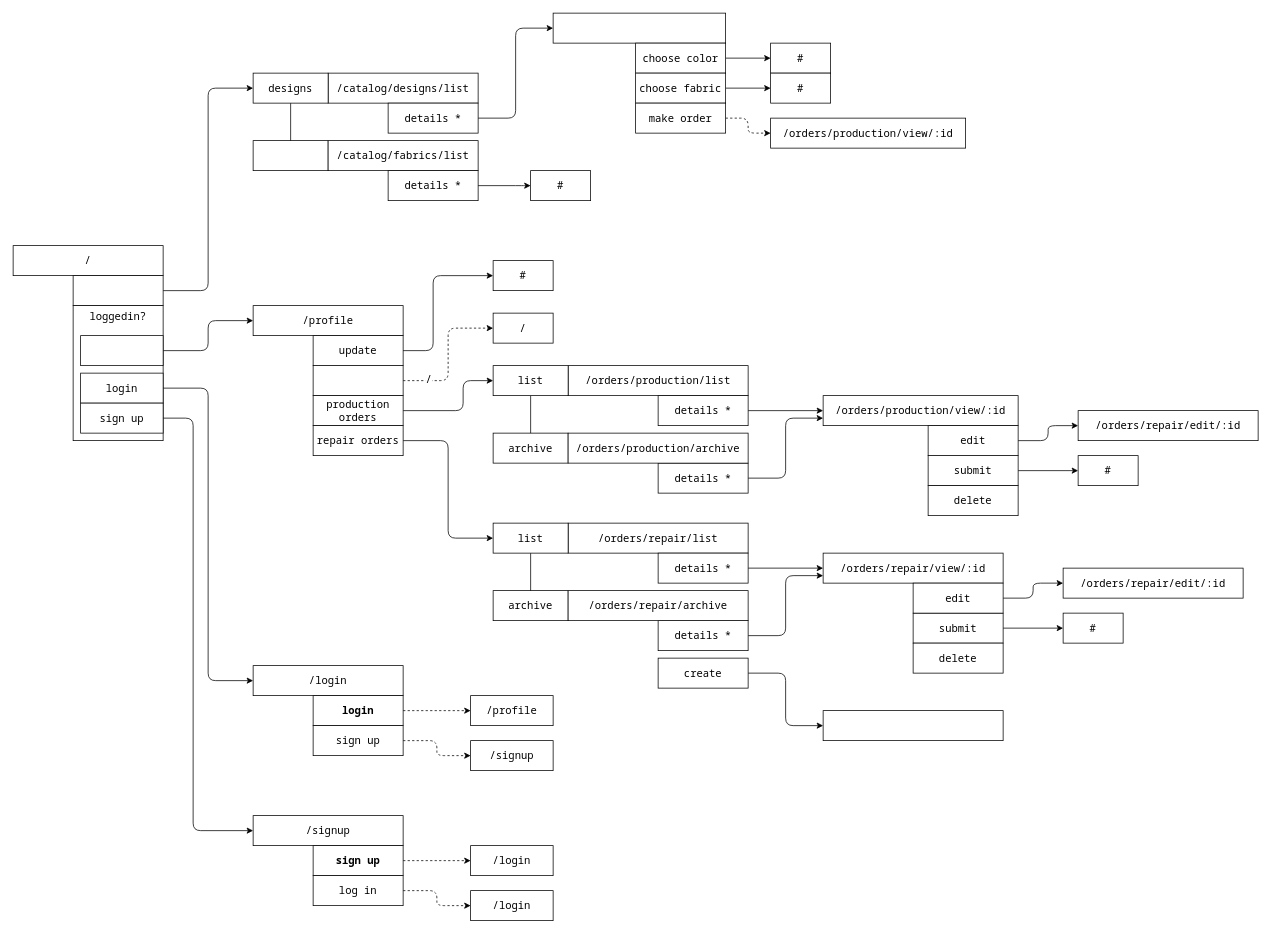
Some shapes in this 1271 by 934 pixel diagram are drawn without their labels. The shapes that lost their labels are listed below. From the top down, each one's centre as x and y in pixels, then its label:
point 639,27: /catalog/designs/view/:id
point 290,155: fabrics
point 117,290: catalog
point 121,350: profile
point 357,380: logout
point 912,725: /orders/repair/create
